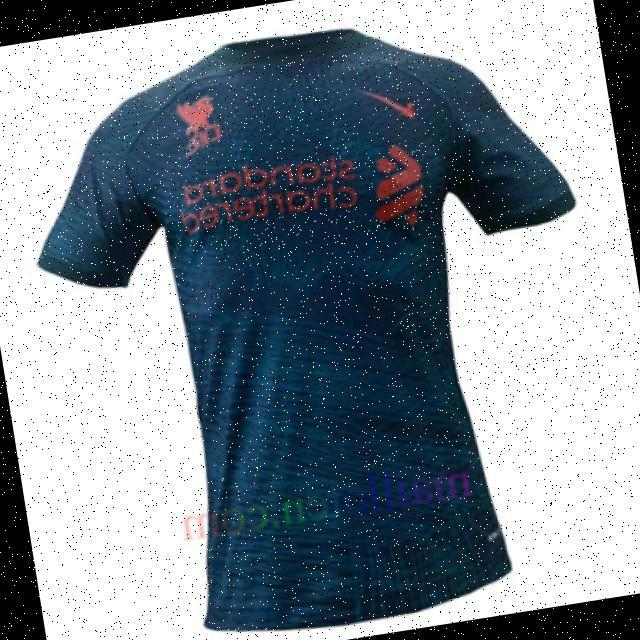Standard Chartered: (172, 135, 437, 265)
